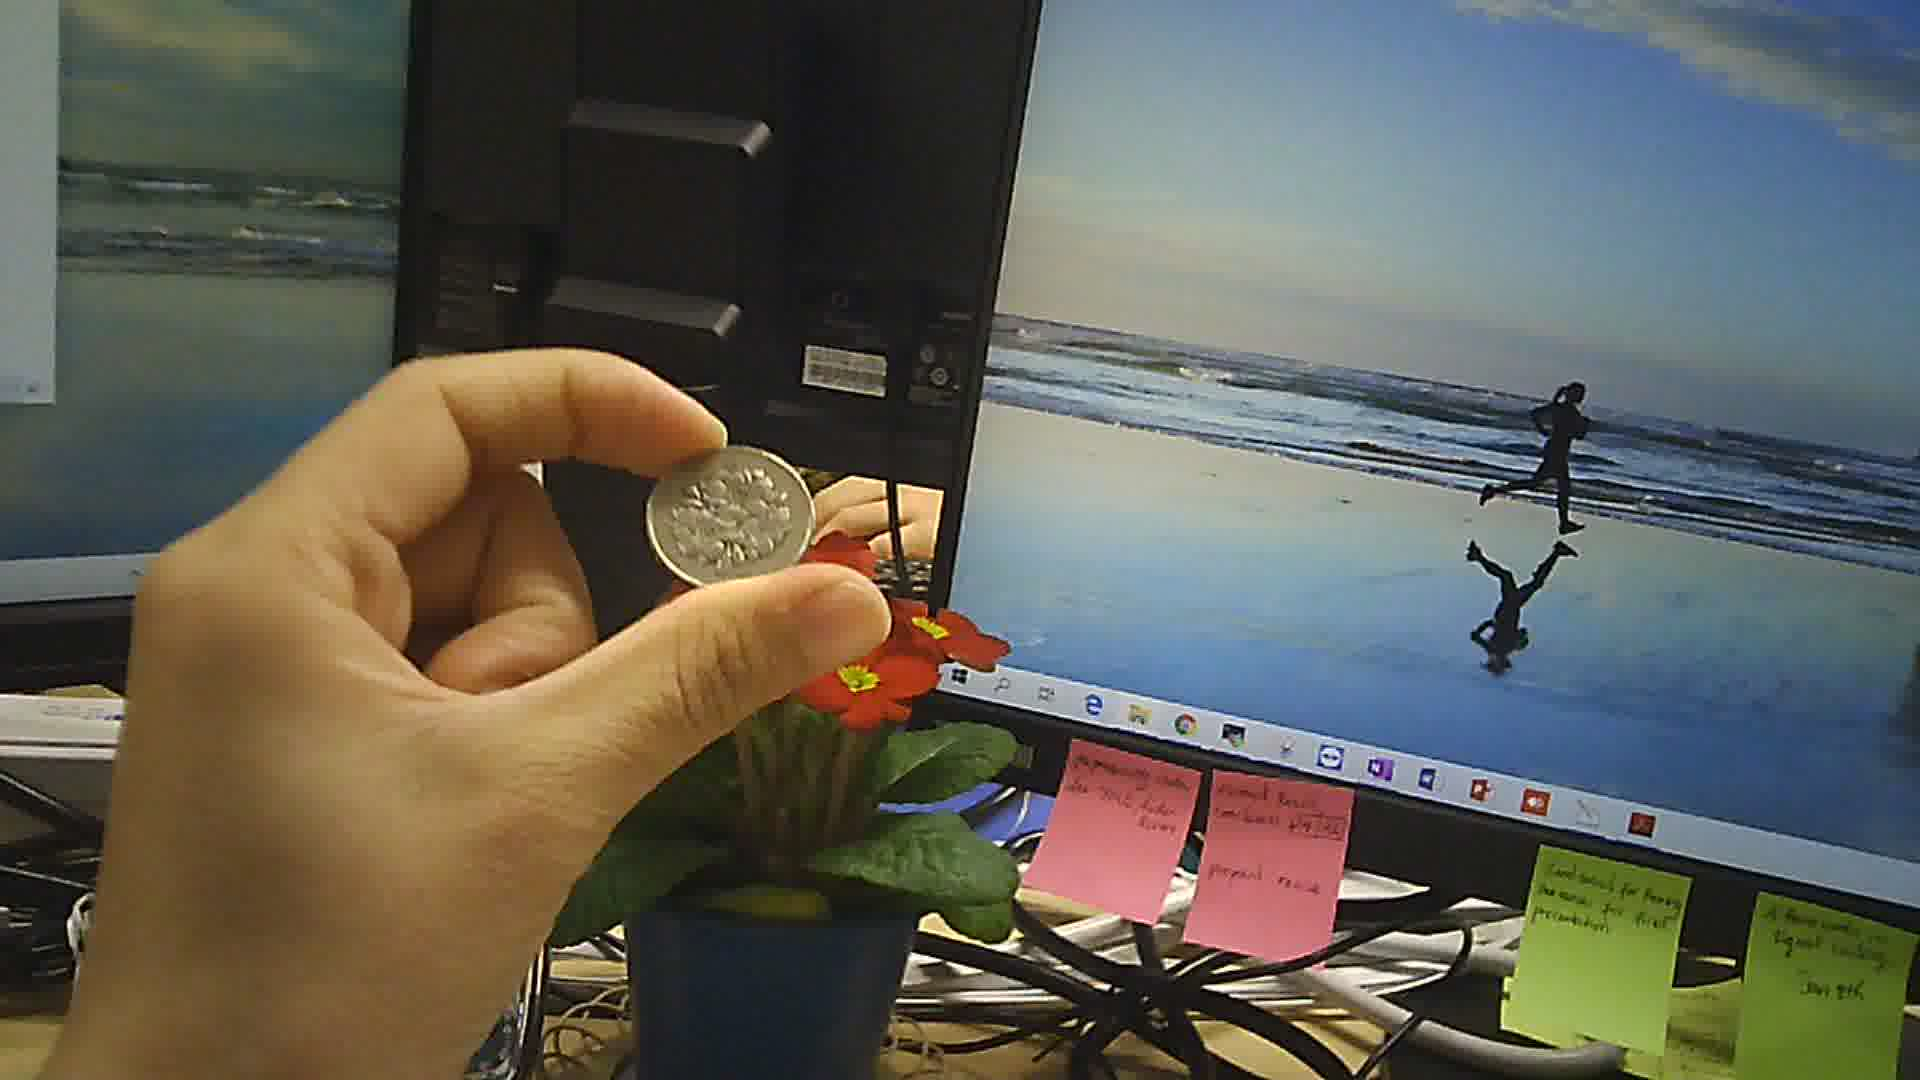100 Yen: (637, 433, 810, 583)
